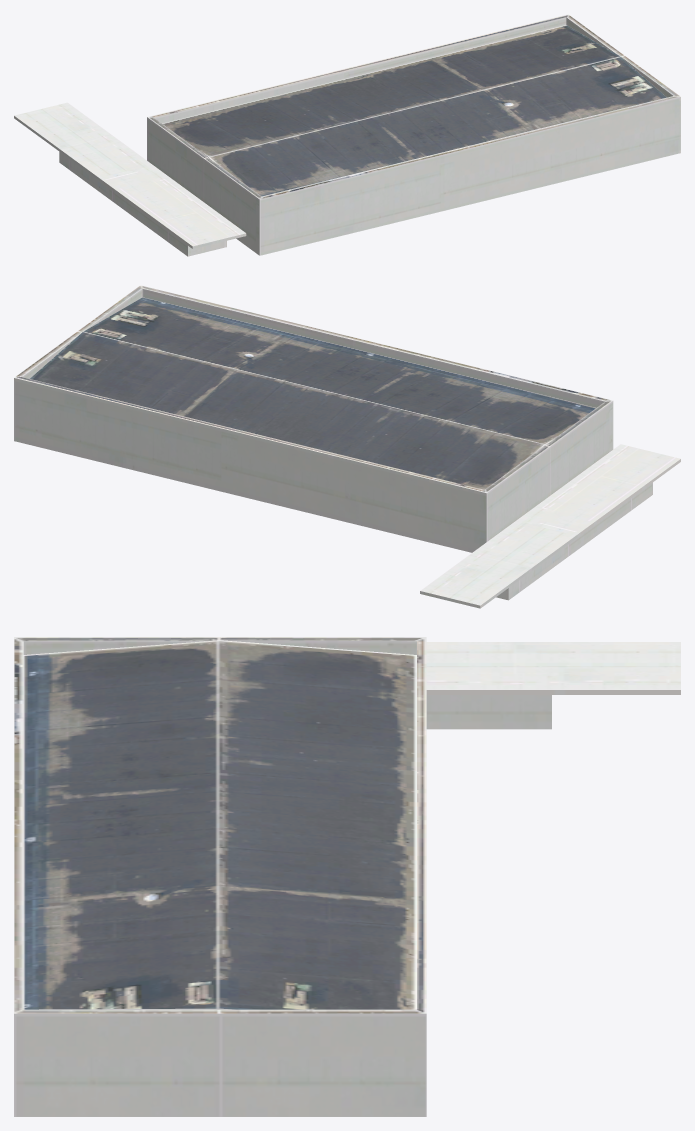
The model's file is SmallGalpao.gltf.
3 views of the same model, one above another, from view 1: azimuth 30°, elevation 25°; view 2: azimuth 150°, elevation 25°; view 3: azimuth 270°, elevation 25° (orthographic). The views are drawn at different scales.
Visible parts, largest first — view 1: node1; view 2: node1; view 3: node1.
Part boxes in pixels (<box>): node1: <box>14,14,680,256</box>; node1: <box>14,285,680,608</box>; node1: <box>14,637,680,1116</box>.
Size of the model in its own units: 54.77 by 6.25 by 35.62.
